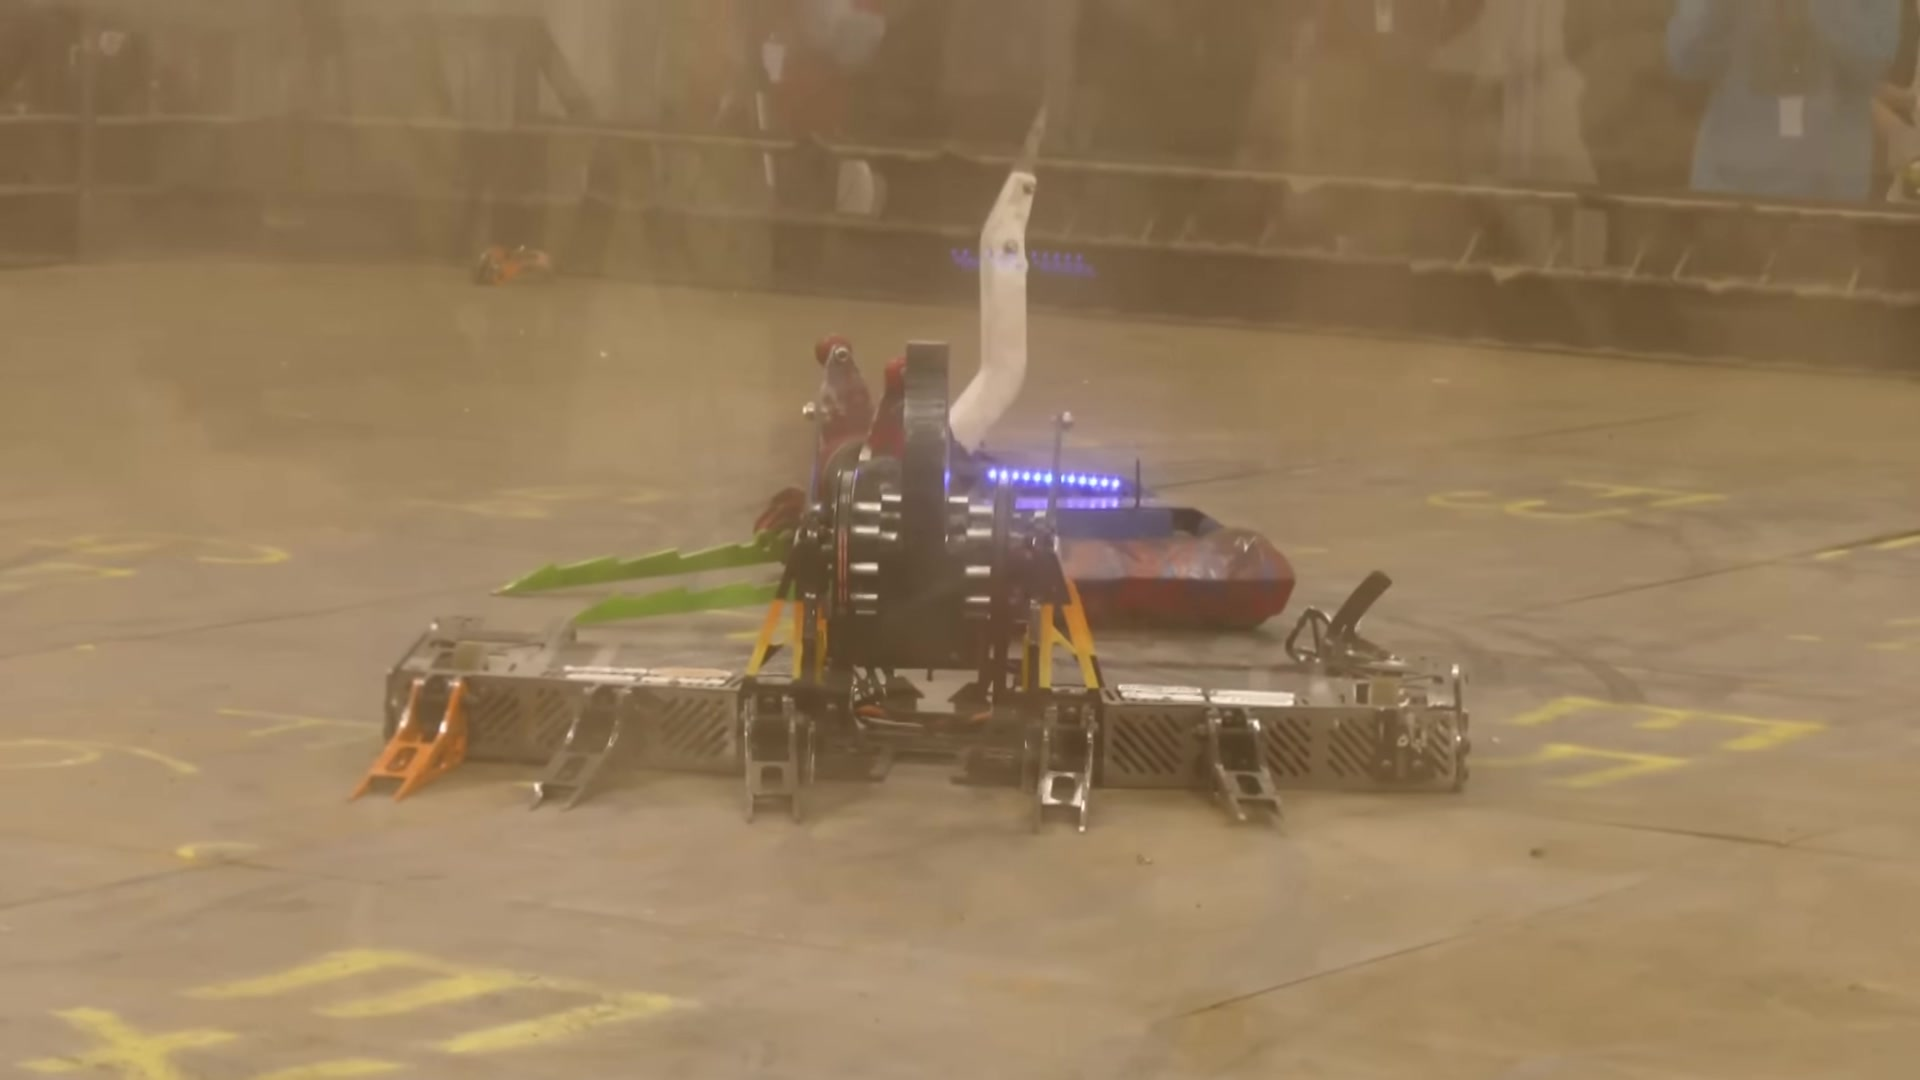combatbot: (344, 339, 1464, 835), (489, 170, 1296, 626)
debris: (475, 244, 558, 286)
